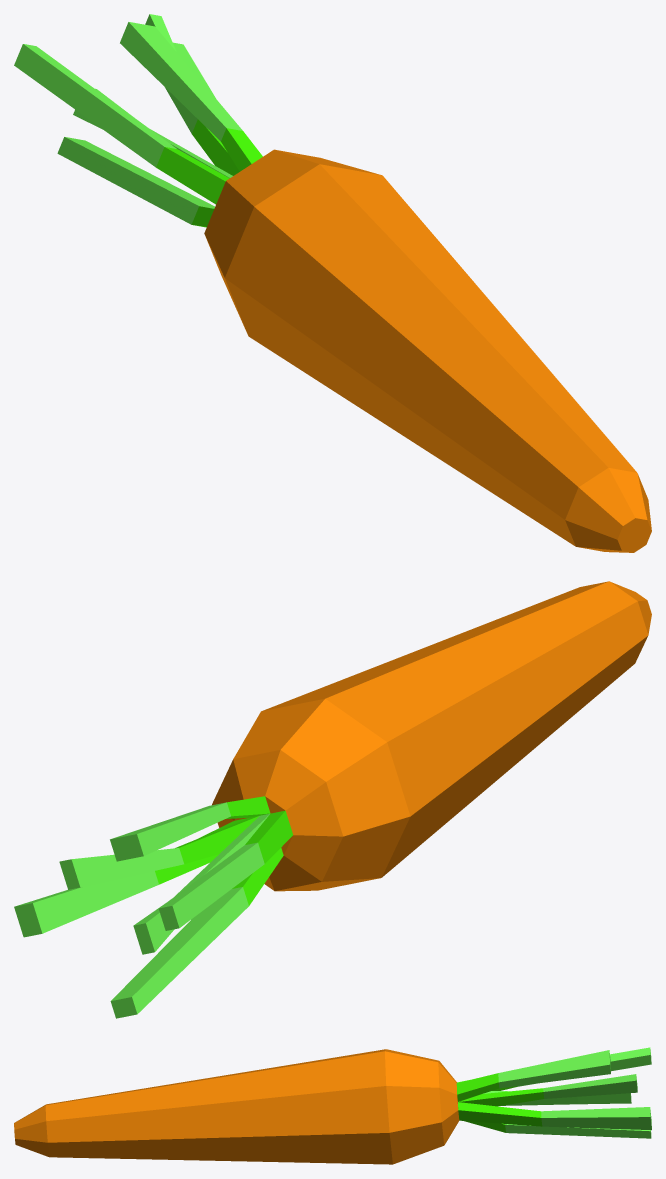
The model's file is carrot01.obj.
3 renders of one model, top to bottom at view 1: azimuth 30°, elevation 25°; view 2: azimuth 150°, elevation 25°; view 3: azimuth 270°, elevation 25°, orthographic. The views are drawn at different scales.
Visible parts, largest first — view 1: Cylinder; view 2: Cylinder; view 3: Cylinder.
Part boxes in pixels (bbox=[...]): Cylinder: bbox=[14, 14, 651, 552]; Cylinder: bbox=[14, 581, 651, 1018]; Cylinder: bbox=[14, 1047, 651, 1164].
Bounding box in the file's own units: 0.0498 × 0.0502 × 0.2581.
1 material, 1 textured.
